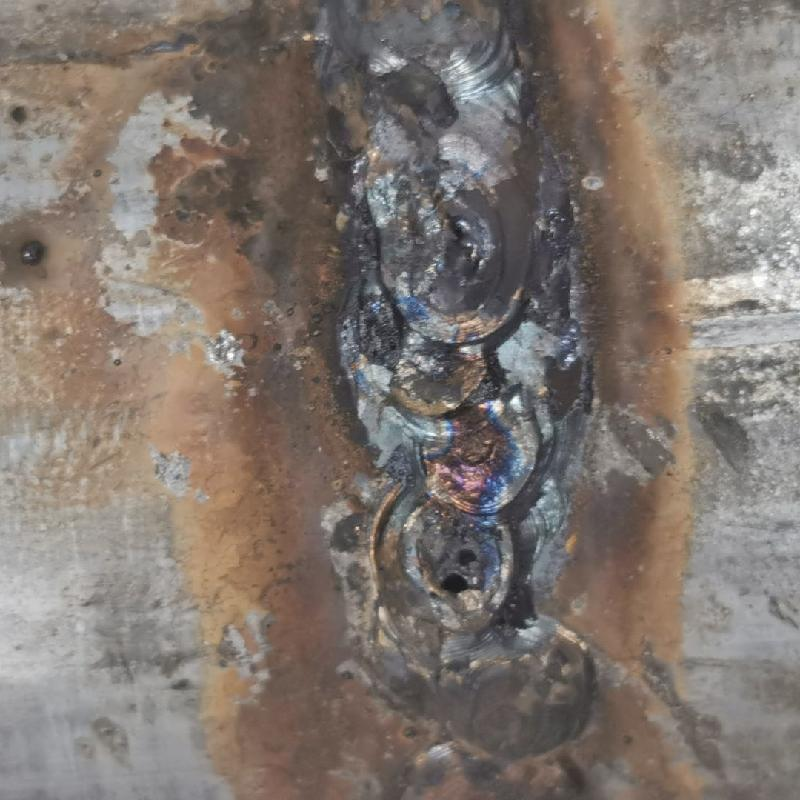Surface_pores: (407, 533, 496, 606)
wrong_size: (290, 0, 556, 149)
